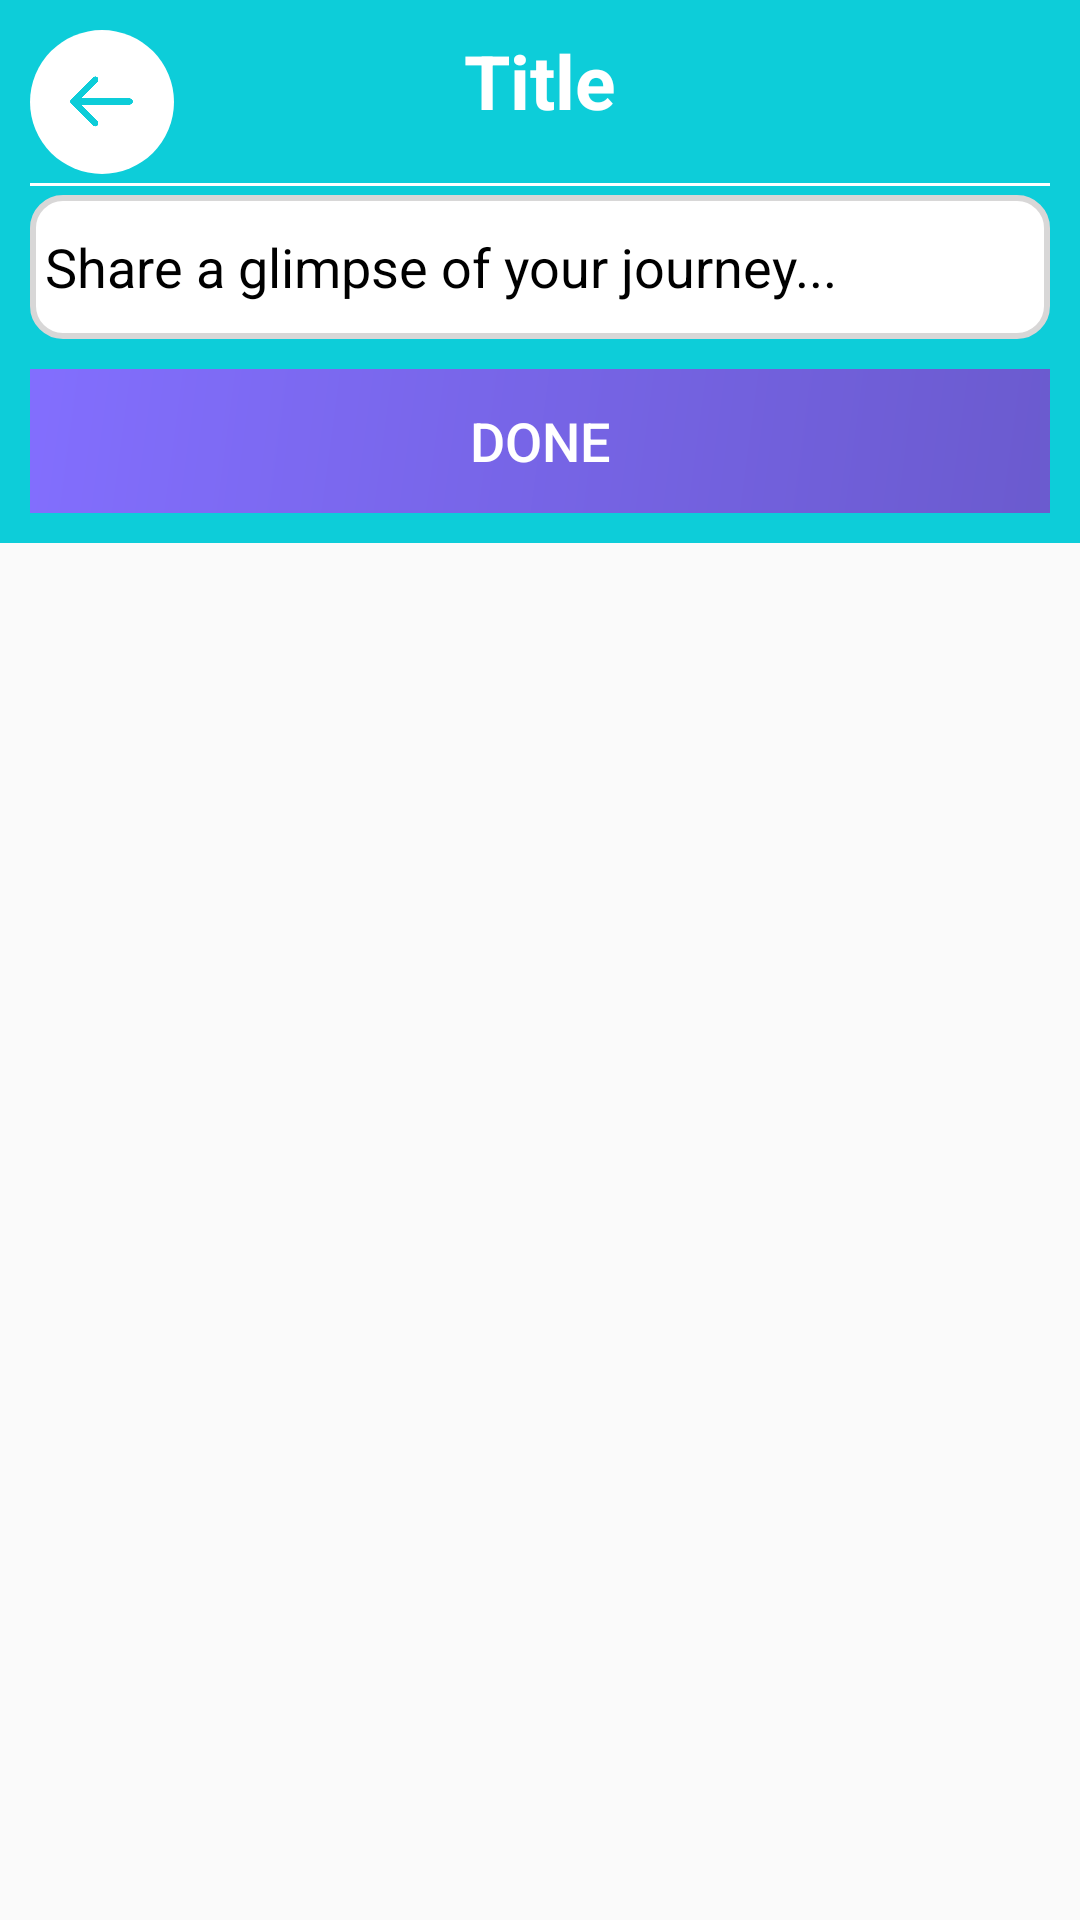

Screen size 1080px×1920px. Icon name, then its center in pixels as point (x, y):
Back: point (102, 102)
